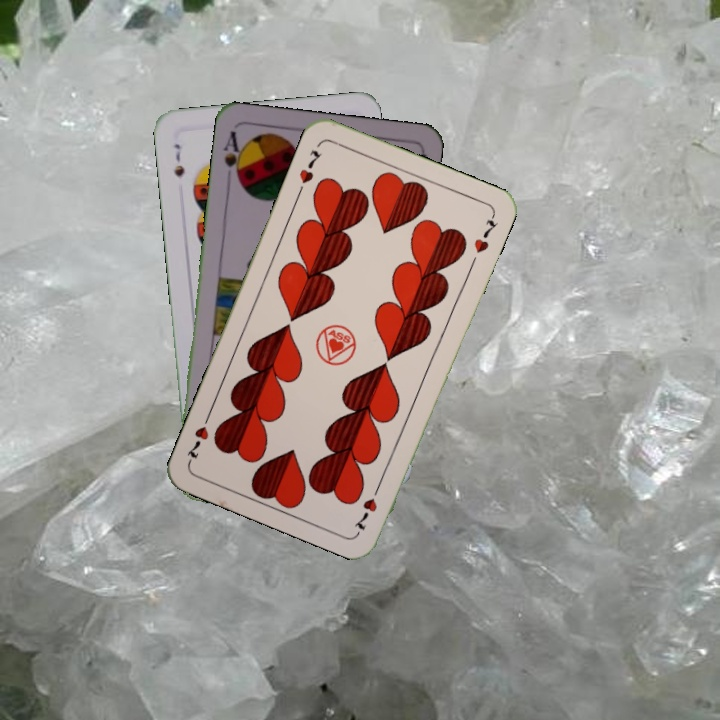H7: (351, 479, 384, 535), (293, 146, 324, 197)
S7: (170, 140, 187, 180)
SA: (219, 127, 247, 186)
